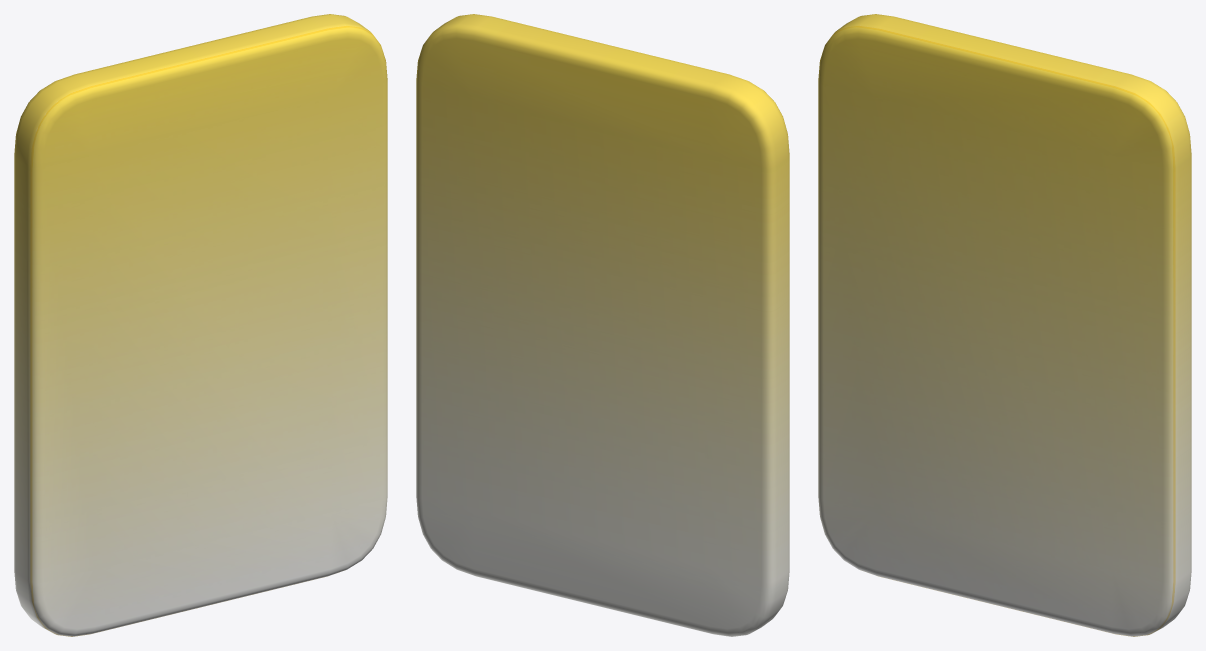
Rendered from card-yellow.glb.
3 views of the same model, side by side, from view 1: azimuth 30°, elevation 25°; view 2: azimuth 150°, elevation 25°; view 3: azimuth 330°, elevation 25° (orthographic).
Parts seen in each view (by area): view 1: Card; view 2: Card; view 3: Card.
Boxes of the visible parts, x1,y1,x2,y2 form: Card: (14,14,387,636); Card: (416,14,789,636); Card: (818,14,1191,636).
Bounding box in the file's own units: 11.63 × 17.02 × 1.28.
Materials: 1 (1 with a texture image).
